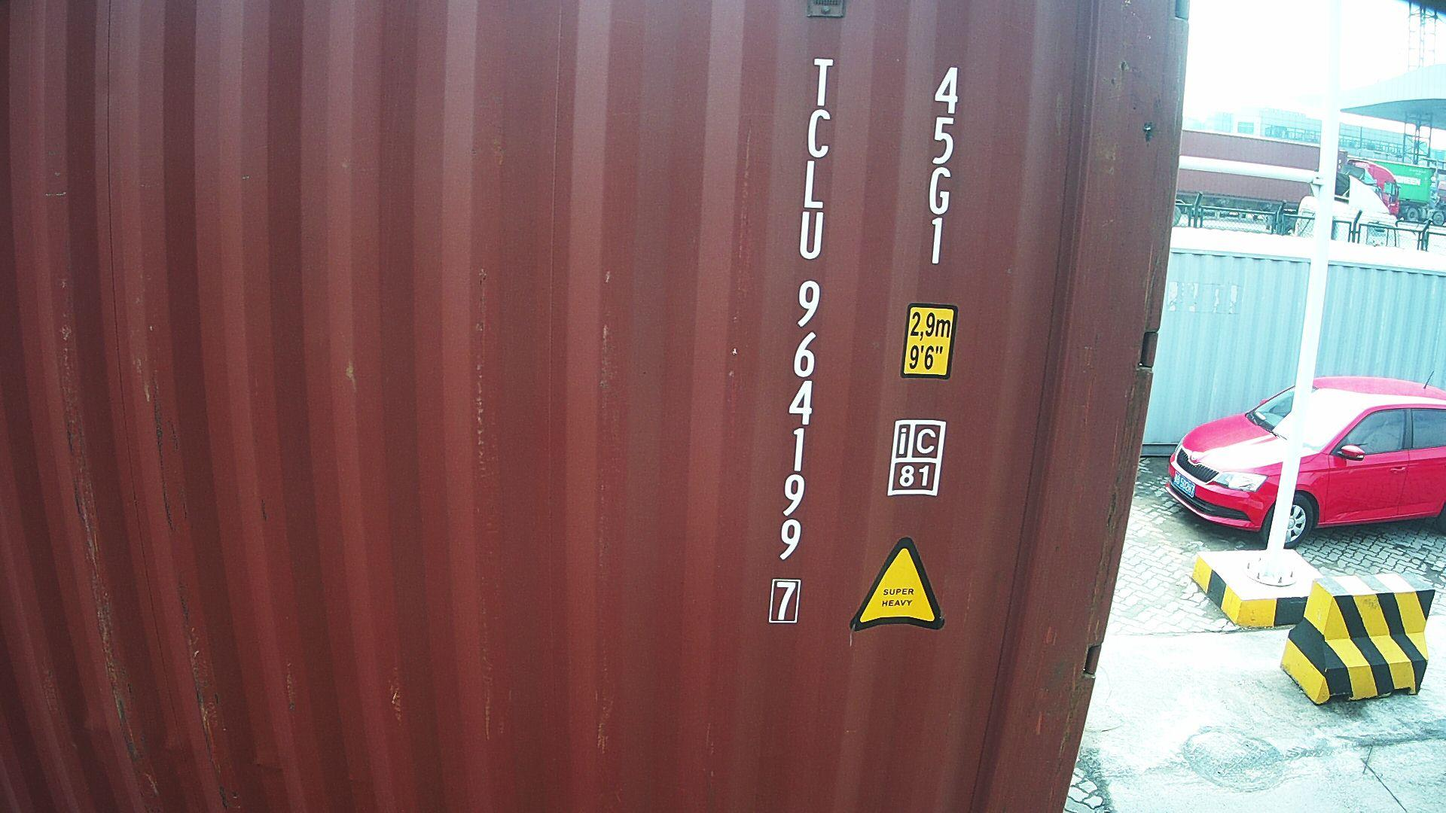container-numbers: (764, 52, 839, 629), (917, 60, 968, 269)
